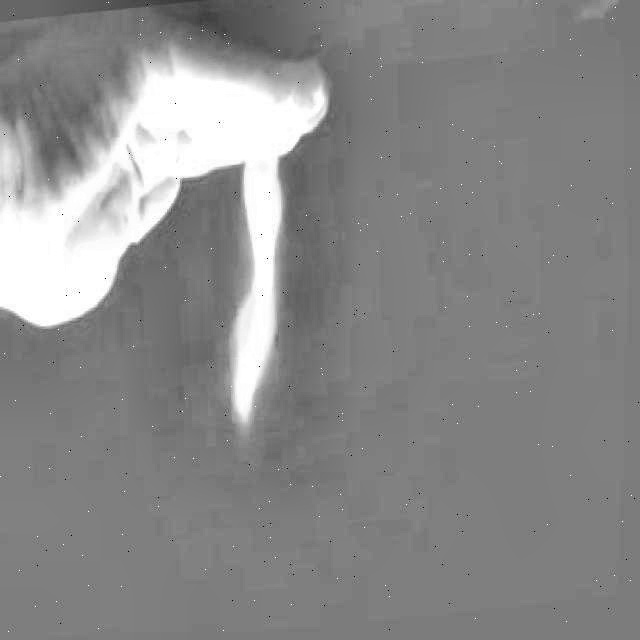Fire: (210, 104, 312, 443)
